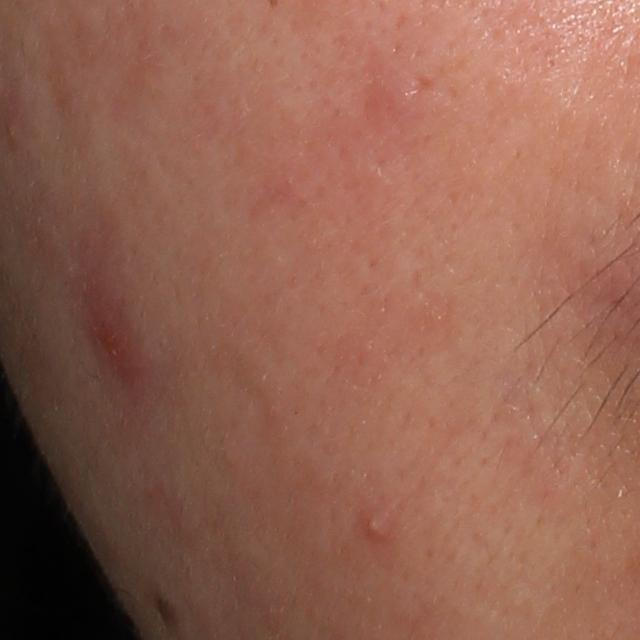atrophic_scar: (408, 73, 439, 97)
papule: (82, 289, 149, 382), (360, 513, 390, 538)
